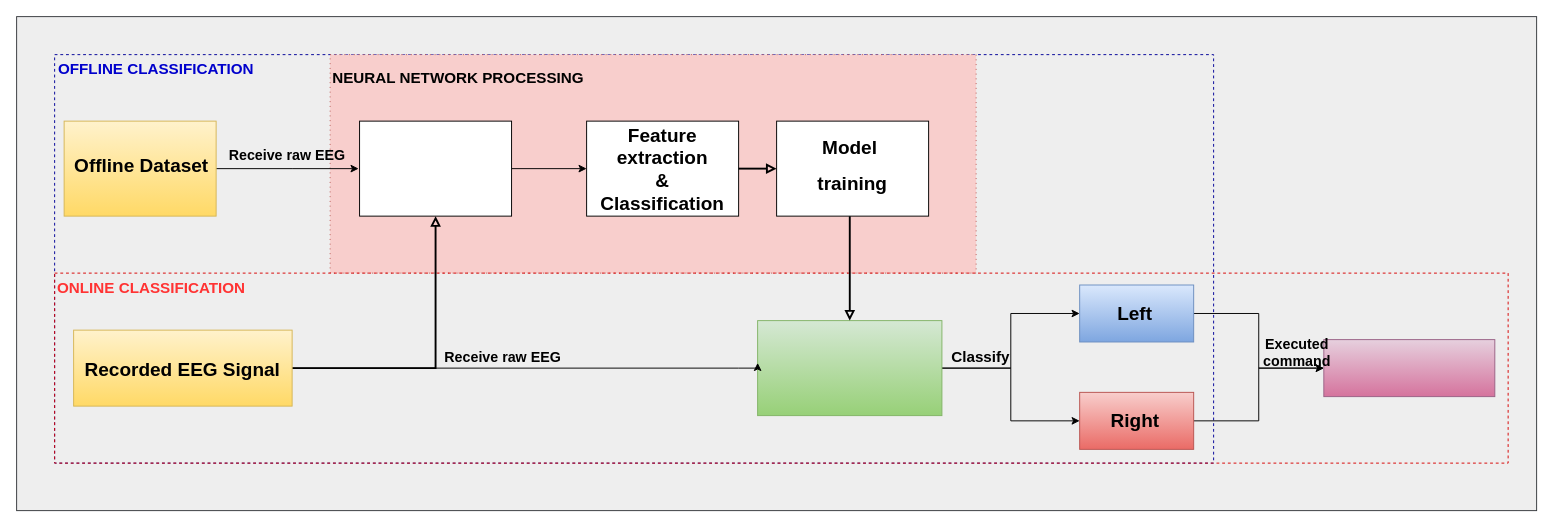
Image size: 1553x527. Some labels were removed from this diagram. Each missing label, with the centre of its shape:
Preprocessing: (x=435, y=168)
Transfer Learning: (x=849, y=368)
Unity Game: (x=1409, y=368)
